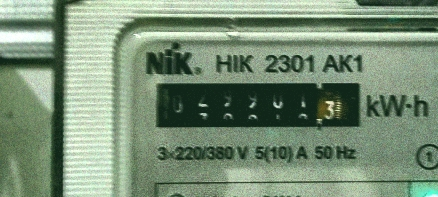0: (270, 85, 284, 110), (169, 92, 185, 113)
1: (295, 86, 308, 109)
2: (194, 89, 210, 108)
3: (322, 97, 335, 119)
9: (245, 87, 259, 109), (220, 87, 232, 109)
screen: (143, 72, 370, 136)
